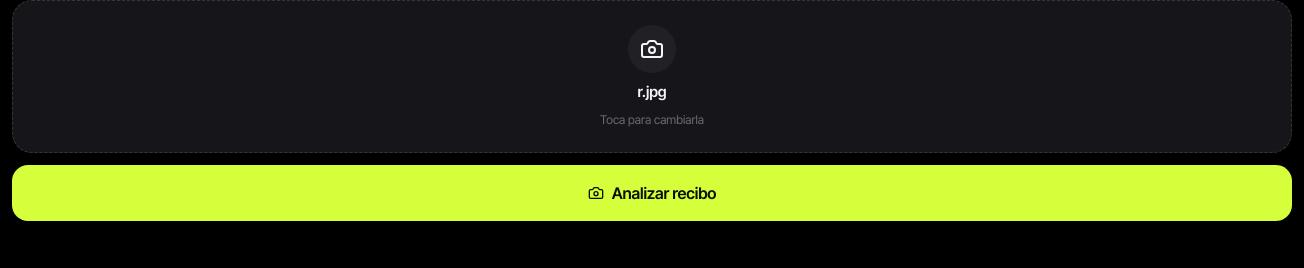
it: ReceiptUpload › surfaces the guard error, which arrives without a message
Earlier steps of the test are not shown.
Click the button "Analizar recibo" at [652, 192], box [12,164,1292,220]
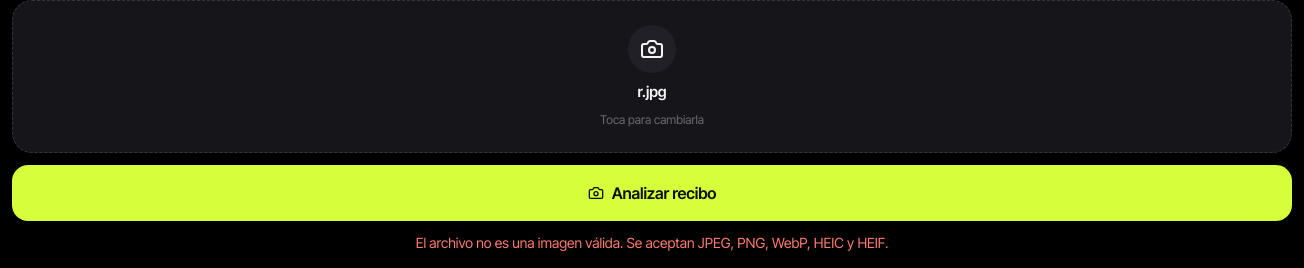
Expected: the text "El archivo no es una imagen válida. Se aceptan JPEG, PNG, WebP, HEIC y HEIF." is shown, [416,234,888,250]
